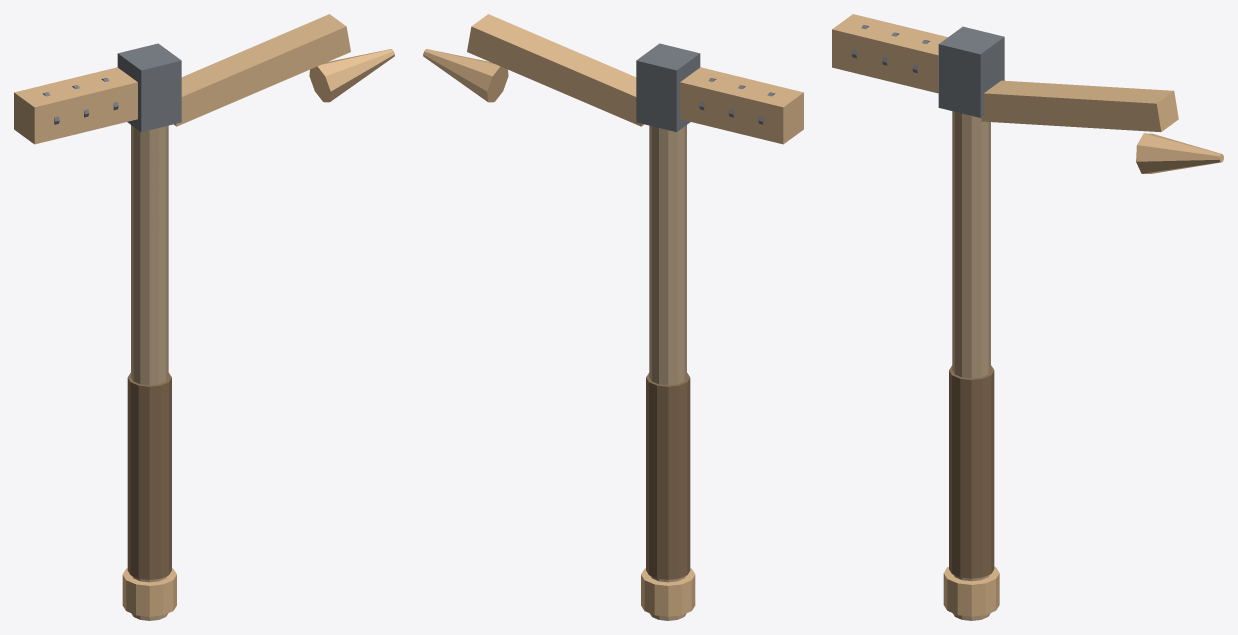
The model's file is prospector_pick.glb.
The picture shows the model from 3 angles, left to right: view 1: azimuth 30°, elevation 25°; view 2: azimuth 150°, elevation 25°; view 3: azimuth 330°, elevation 25°; orthographic projection. The views are drawn at different scales.
Parts seen in each view (by area): view 1: Cylinder, Cylinder.001, Cube.001, Cube.002, Cube, Cone, Cylinder.002; view 2: Cylinder, Cylinder.001, Cube.001, Cube.002, Cube, Cone, Cylinder.002; view 3: Cylinder, Cylinder.001, Cube.001, Cube.002, Cube, Cone, Cylinder.002.
Part boxes in pixels (bbox=[...]): Cylinder: bbox=[131, 125, 168, 620]; Cylinder.001: bbox=[127, 373, 171, 579]; Cube.001: bbox=[174, 14, 350, 126]; Cube.002: bbox=[14, 67, 137, 144]; Cube: bbox=[117, 43, 181, 132]; Cone: bbox=[309, 49, 394, 102]; Cylinder.002: bbox=[122, 568, 176, 616]; Cylinder: bbox=[649, 125, 686, 620]; Cylinder.001: bbox=[646, 373, 690, 579]; Cube.001: bbox=[467, 14, 643, 126]; Cube.002: bbox=[680, 67, 803, 144]; Cube: bbox=[636, 43, 700, 132]; Cone: bbox=[423, 49, 508, 102]; Cylinder.002: bbox=[641, 568, 695, 616]; Cylinder: bbox=[952, 111, 990, 620]; Cylinder.001: bbox=[949, 365, 994, 578]; Cube.001: bbox=[981, 80, 1178, 131]; Cube.002: bbox=[832, 14, 947, 93]; Cube: bbox=[938, 26, 1004, 117]; Cone: bbox=[1136, 133, 1223, 173]; Cylinder.002: bbox=[943, 566, 999, 616].
Bounding box in the file's own units: 0.5001 × 0.72 × 0.064.
